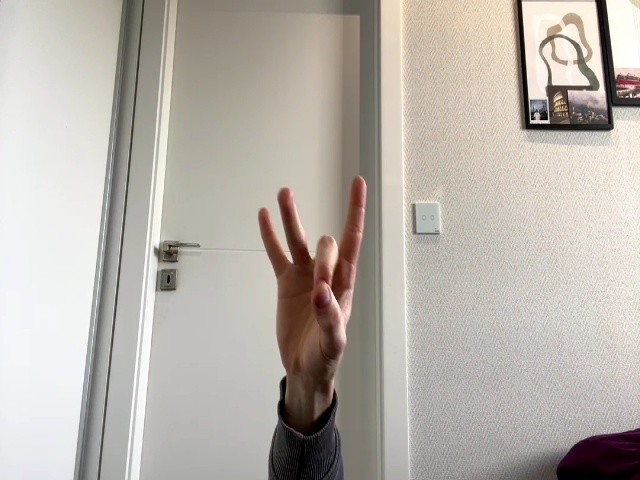G: (259, 176, 366, 373)
